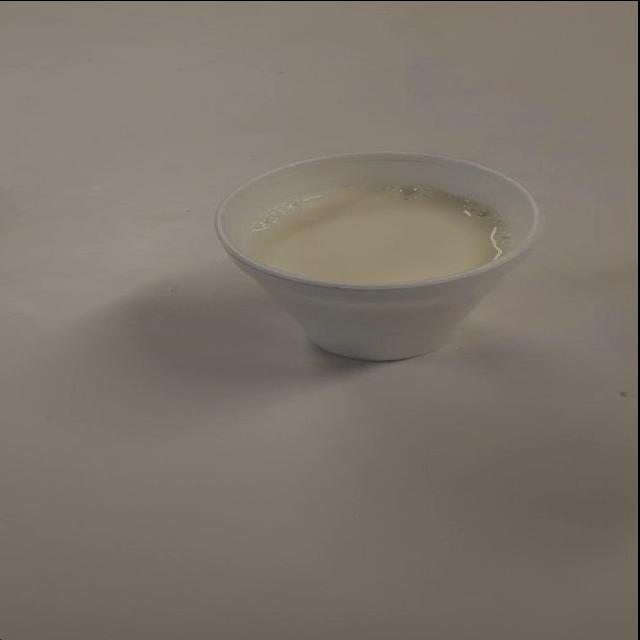milk: (190, 143, 548, 381)
